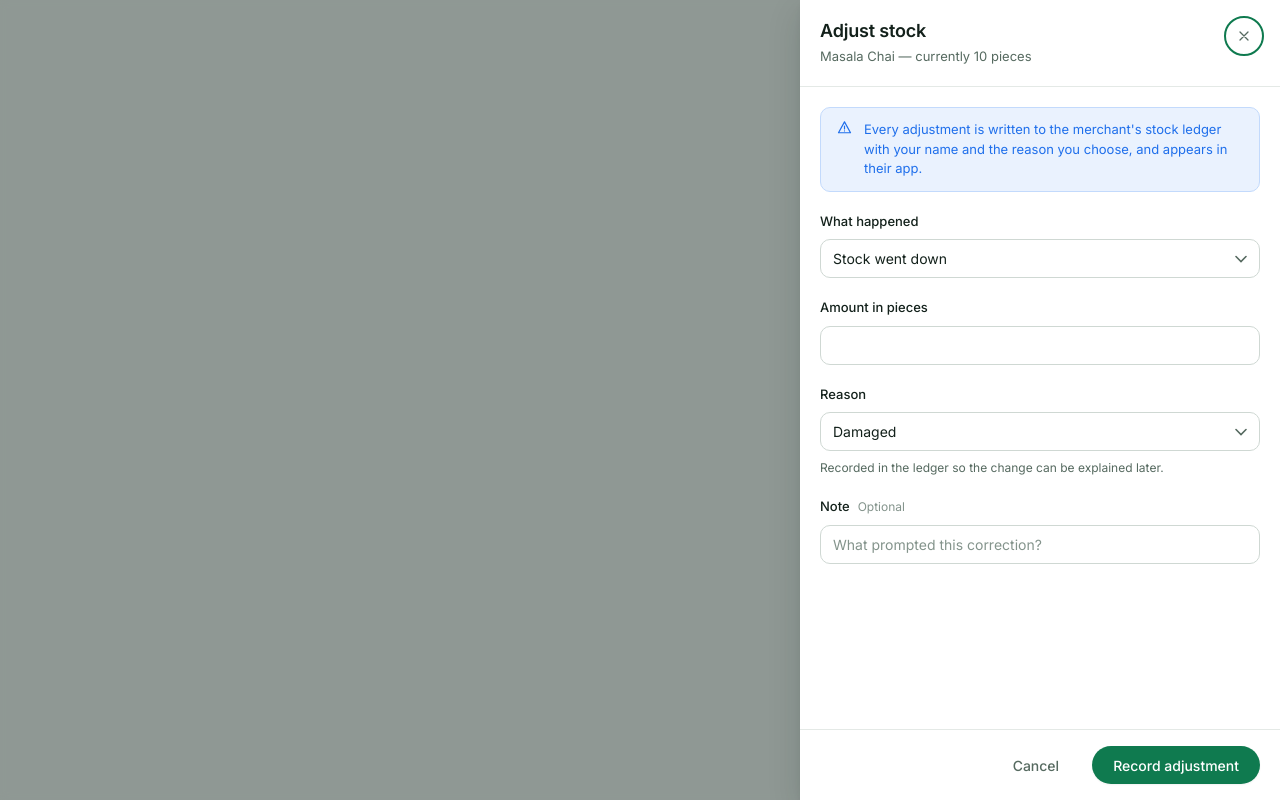
StockAdjustDrawer › refuses to remove more than is available, and says how much there is
This screenshot has width=1280, height=800.
In the number field labelled "Amount in pieces": (1040, 345) [820,326,1260,364], type "15"
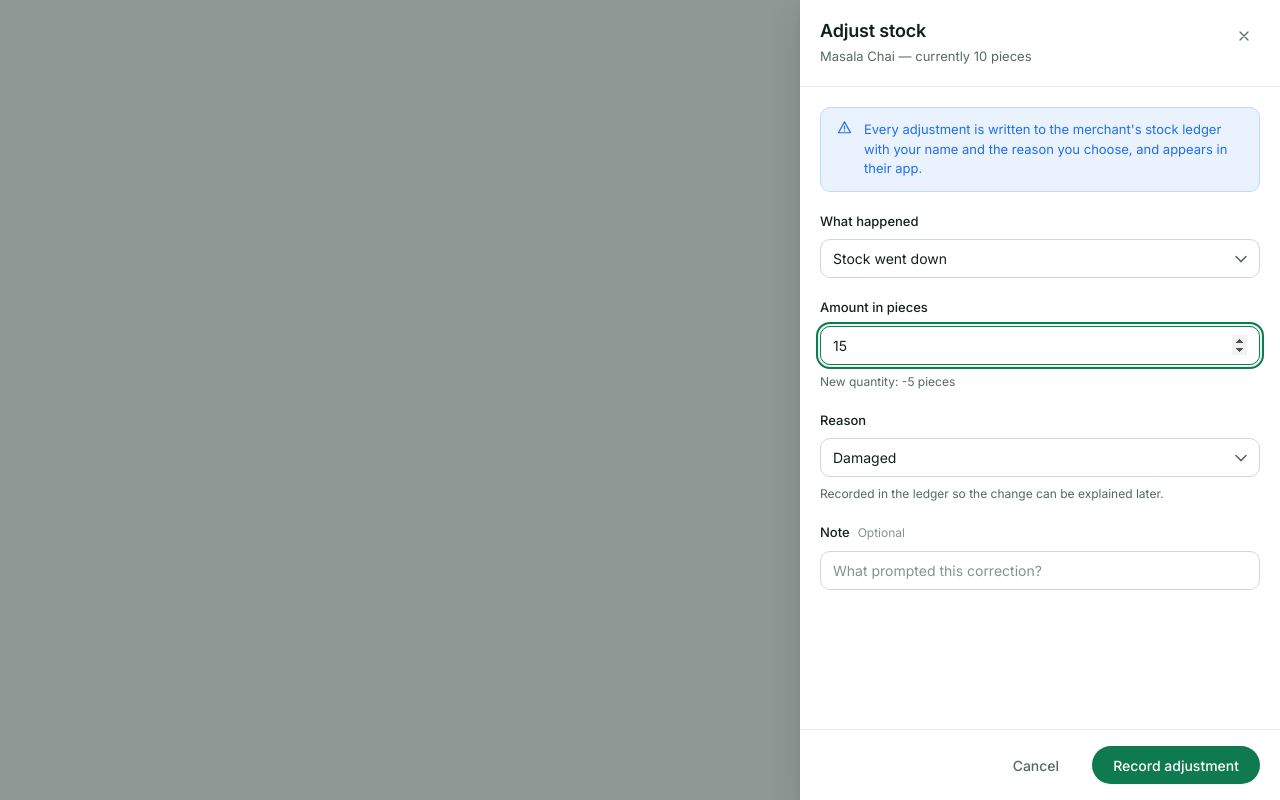
Click the button "Record adjustment": click(1176, 765) [1092,746,1260,784]
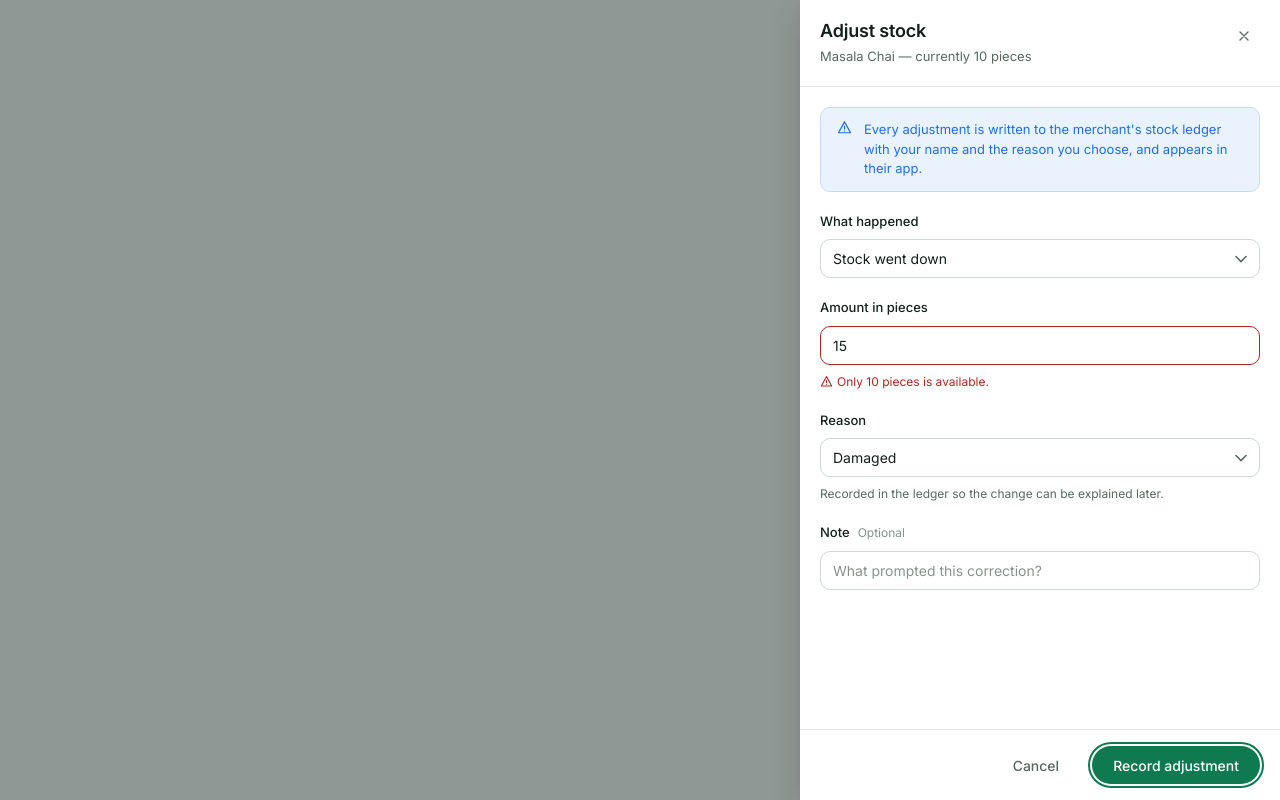
Now the text "Only 10 pieces is available." is shown, box [820,374,989,388]
